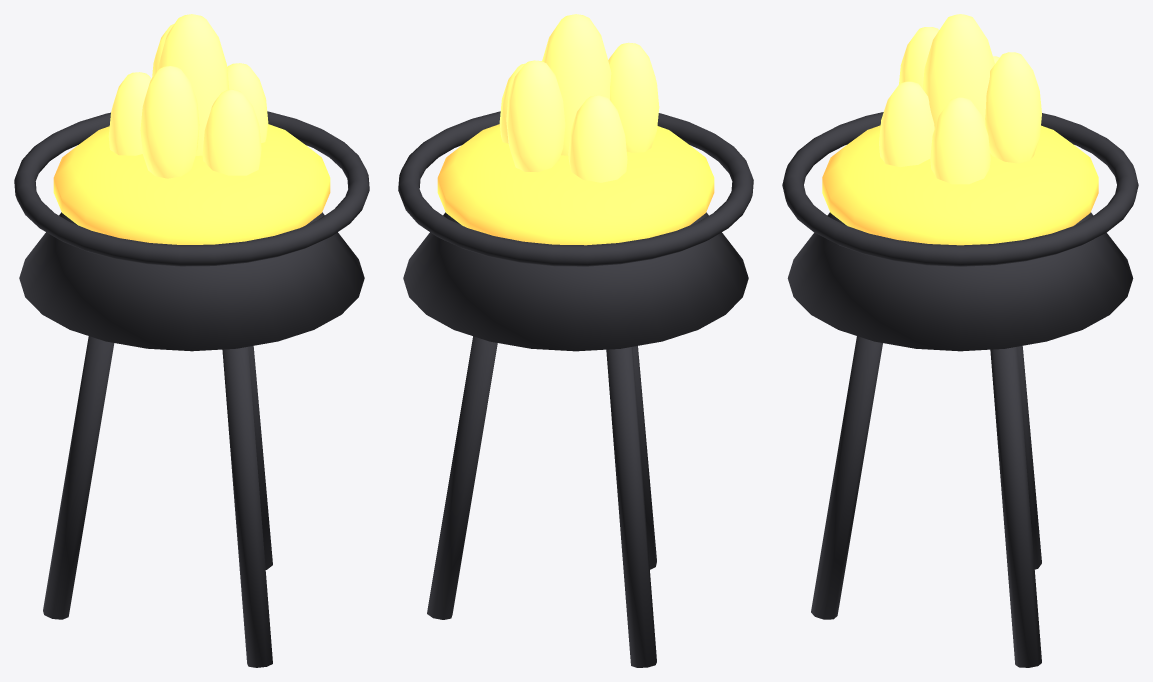
The model's file is brazier.glb.
3 renders of one model, left to right at view 1: azimuth 30°, elevation 25°; view 2: azimuth 150°, elevation 25°; view 3: azimuth 270°, elevation 25°, orthographic.
Parts seen in each view (by area): view 1: GD_brazier; view 2: GD_brazier; view 3: GD_brazier.
Boxes of the visible parts, x1=… form: GD_brazier: x1=14, y1=14, x2=369, y2=667; GD_brazier: x1=398, y1=14, x2=753, y2=667; GD_brazier: x1=782, y1=14, x2=1138, y2=667.
Bounding box in the file's own units: 0.66 × 1.23 × 0.66.
